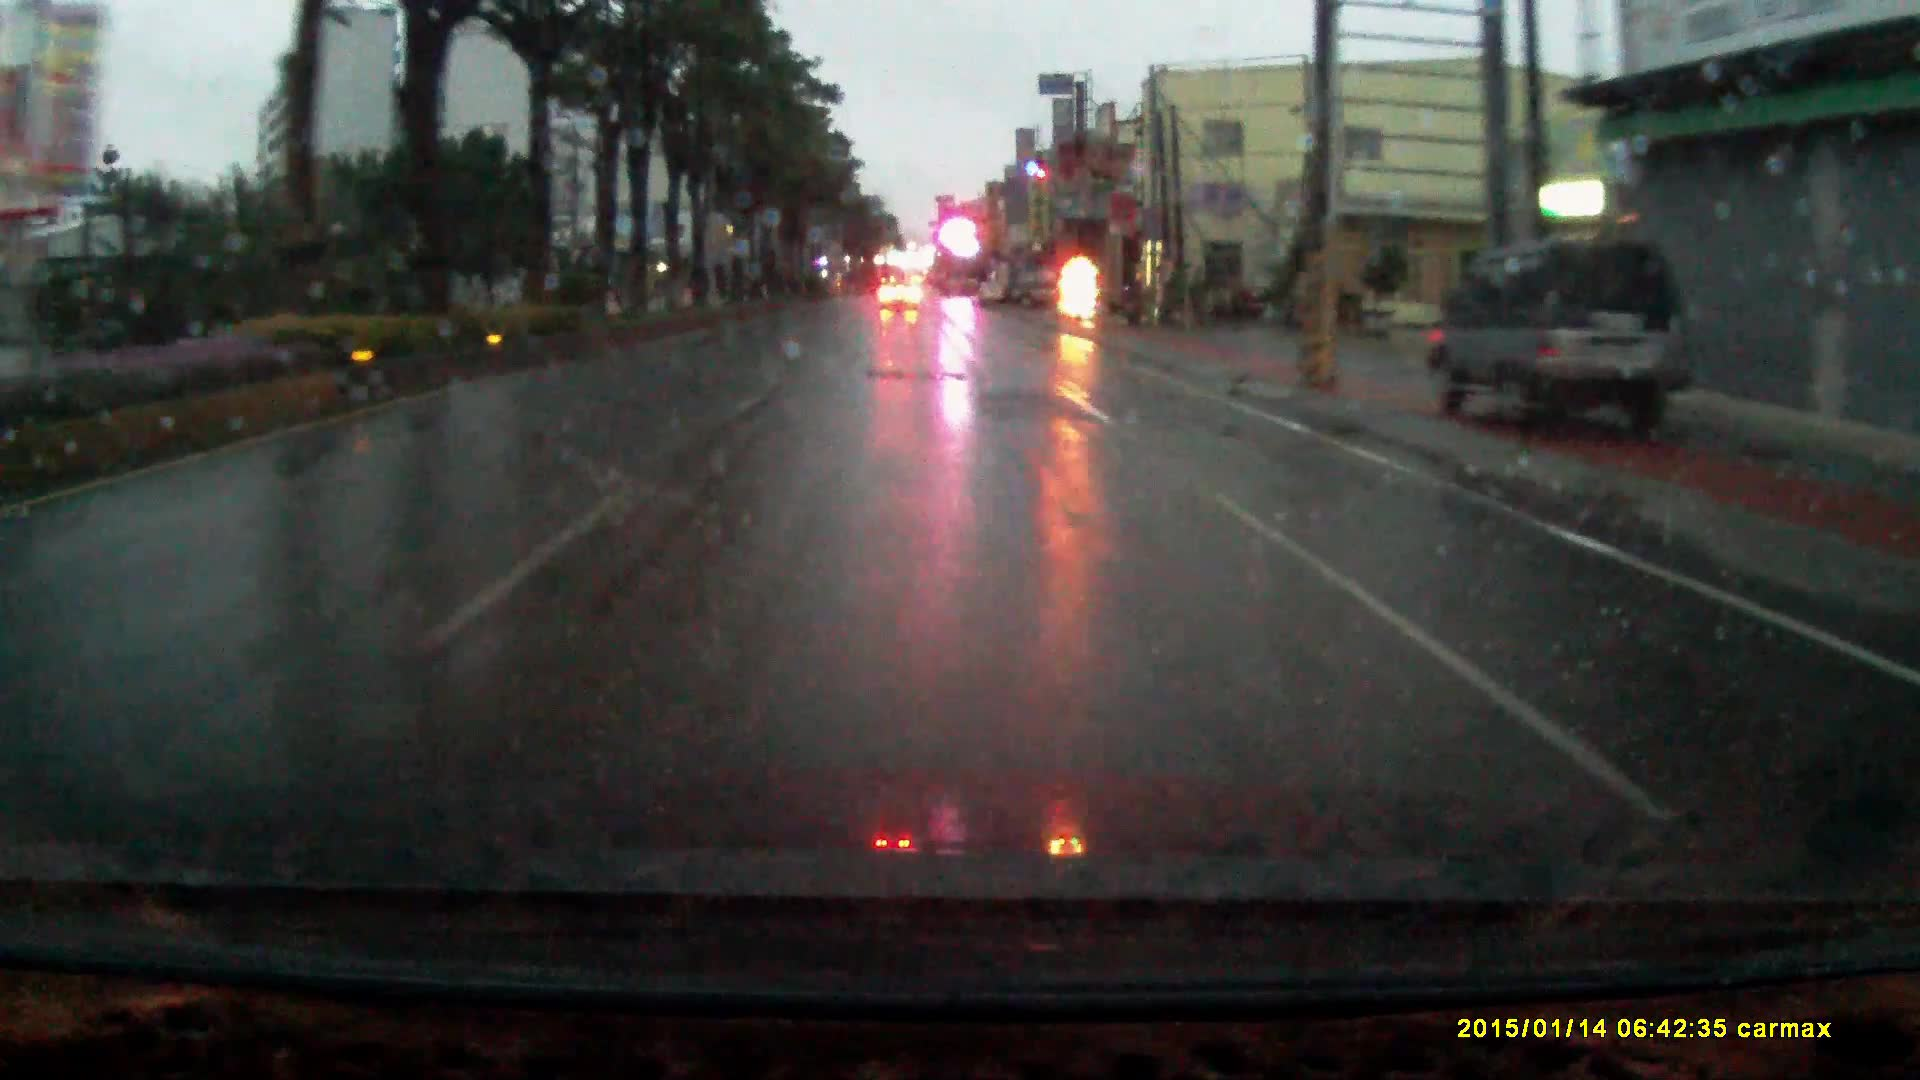vehicle: (1437, 233, 1698, 444), (1009, 289, 1069, 328), (877, 284, 923, 316)
